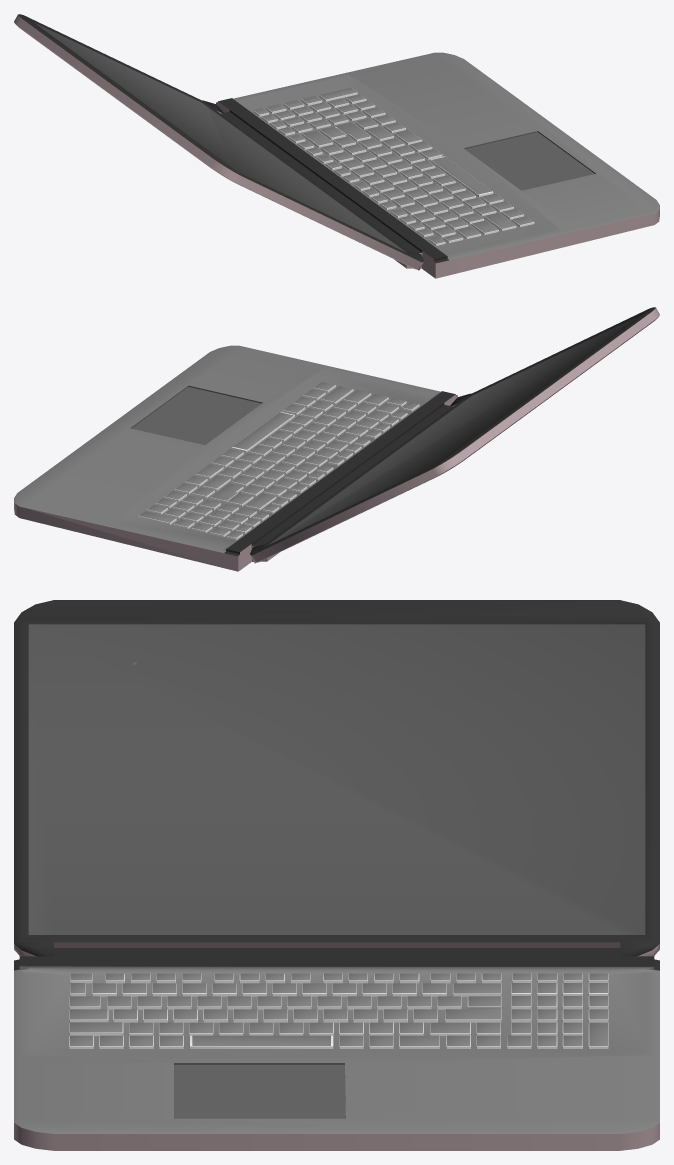
The model's file is Table_Laptop.fbx.
3 views of the same model, one above another, from view 1: azimuth 30°, elevation 25°; view 2: azimuth 150°, elevation 25°; view 3: azimuth 270°, elevation 25° (orthographic). The views are drawn at different scales.
Visible parts, largest first — view 1: Laptop, keyboard, Screen; view 2: Laptop, keyboard, Screen; view 3: Screen, Laptop, keyboard.
Boxes of the visible parts, box(x1,y1,x2,y2) form: Laptop: box(216, 52, 659, 278); keyboard: box(253, 88, 534, 245); Screen: box(14, 14, 423, 270); Laptop: box(14, 345, 457, 571); keyboard: box(138, 382, 419, 540); Screen: box(250, 307, 659, 563); Screen: box(14, 600, 659, 956); Laptop: box(14, 948, 659, 1150); keyboard: box(69, 973, 608, 1048).
Bounding box in the file's own units: 37.83 × 12.92 × 32.3.
Materials: 2 (2 with a texture image).
